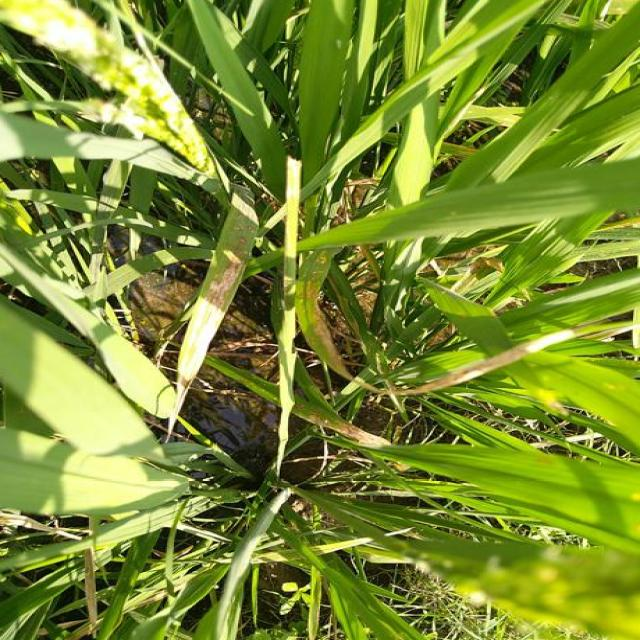Leaf Blight: (168, 184, 259, 439), (296, 251, 388, 395), (395, 327, 587, 396), (292, 404, 392, 450)
